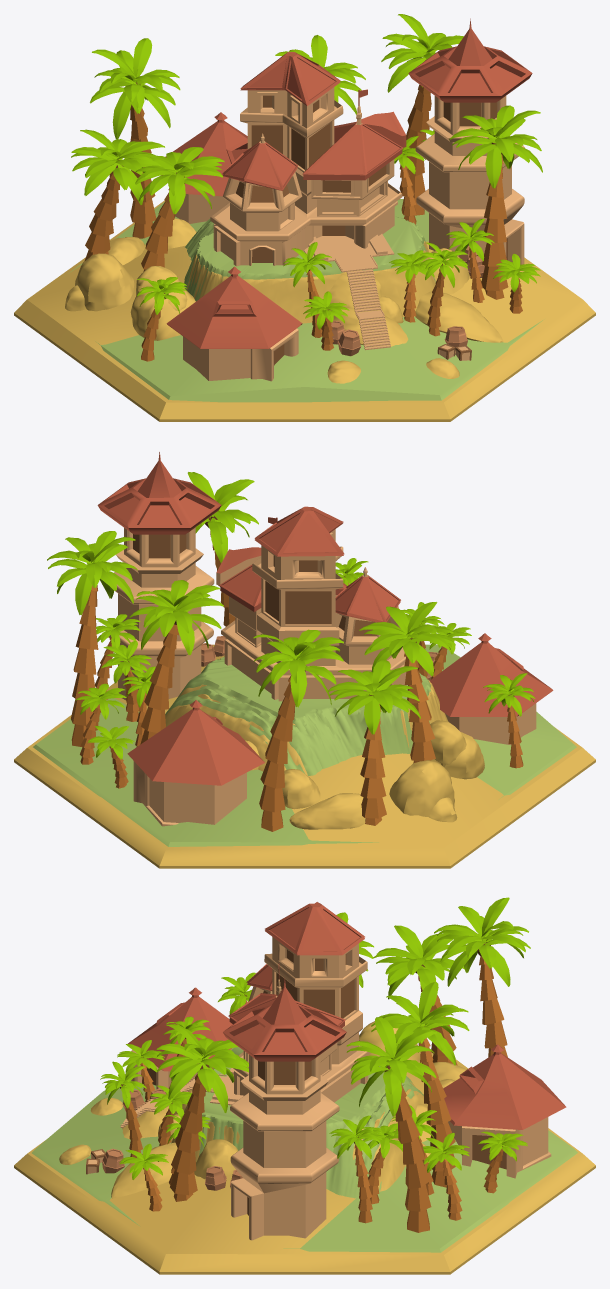
Rendered from castle1.glb.
3 renders of one model, top to bottom at view 1: azimuth 30°, elevation 25°; view 2: azimuth 150°, elevation 25°; view 3: azimuth 270°, elevation 25°, orthographic.
Parts seen in each view (by area): view 1: Landscape, trees_animation; view 2: Landscape, trees_animation; view 3: Landscape, trees_animation.
Part boxes in pixels (x1=…): Landscape: x1=14, y1=18, x2=595, y2=421; trees_animation: x1=71, y1=14, x2=542, y2=361; Landscape: x1=14, y1=452, x2=595, y2=868; trees_animation: x1=47, y1=472, x2=535, y2=831; Landscape: x1=14, y1=902, x2=595, y2=1274; trees_animation: x1=100, y1=897, x2=530, y2=1232.
Size of the model in its own units: 1.73 by 1.05 by 2.
Materials: 1 (1 with a texture image).
